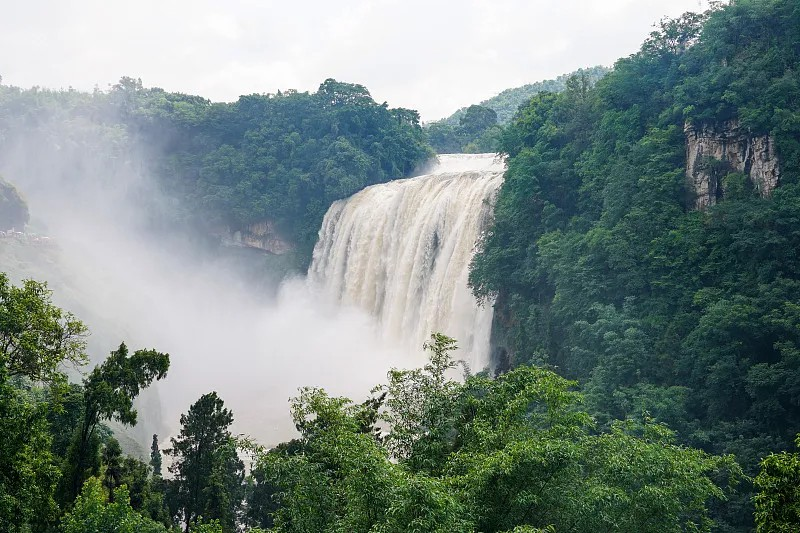Huangguoshu: (299, 153, 508, 367)
